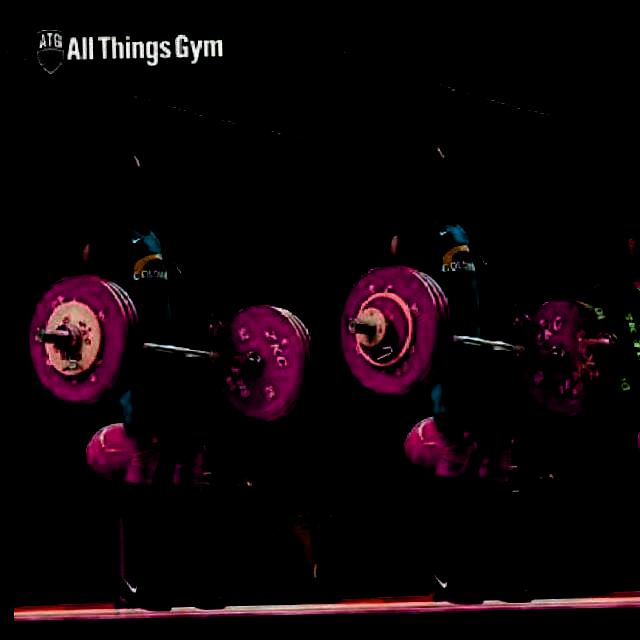barbell: (335, 258, 442, 402), (27, 267, 131, 410)
